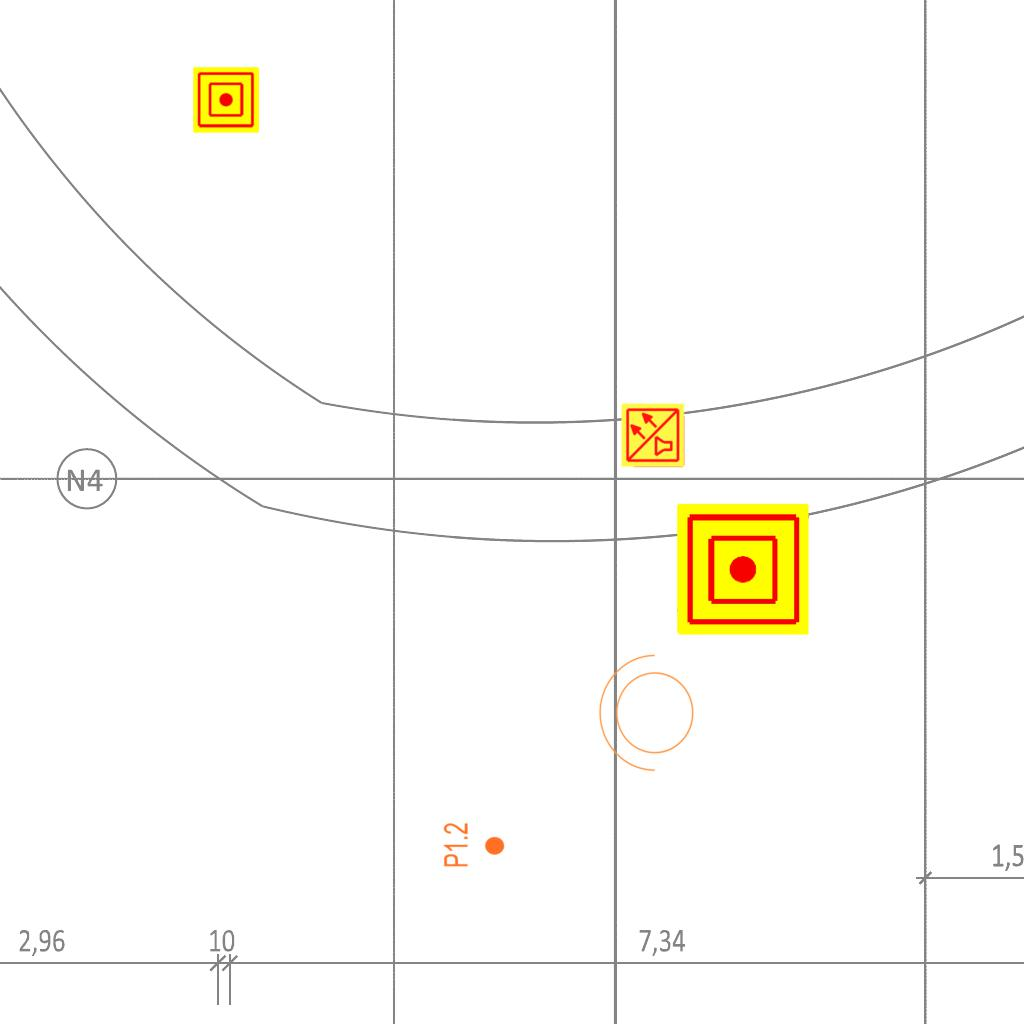Downlight_LED_Einbauleuchten_Flur: (442, 822, 506, 868)
NAM-Nichtautomatischer_Melder: (677, 503, 809, 635), (193, 67, 259, 133)
OKW_Multisensormelder_(Kombination_optischer_Rauch-Kahlenmonoxid_Waerme-Melder): (620, 402, 686, 468)
Scheinwerfer_fuer_Alarmbeleuchtung: (594, 650, 706, 782)
